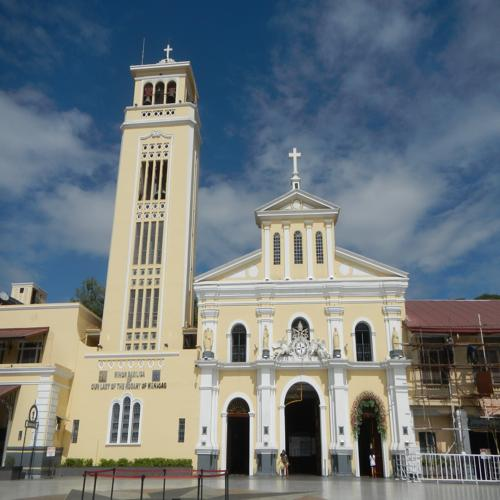Manaoag Church: (54, 37, 415, 474)
